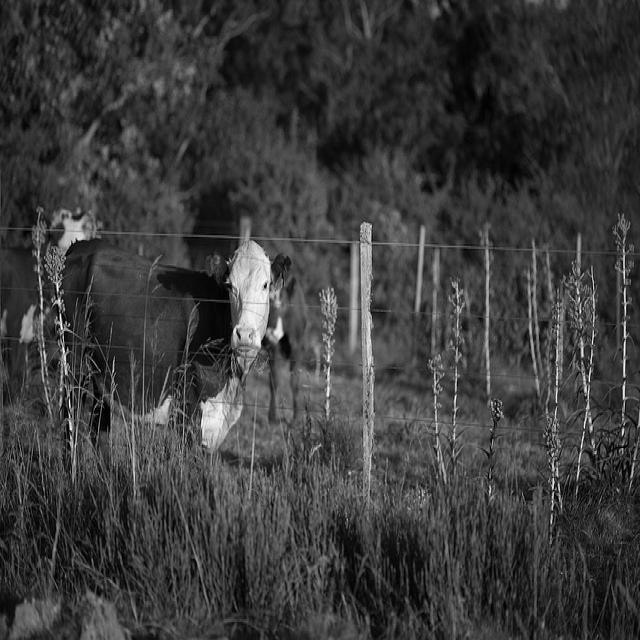cow: (59, 234, 294, 471)
